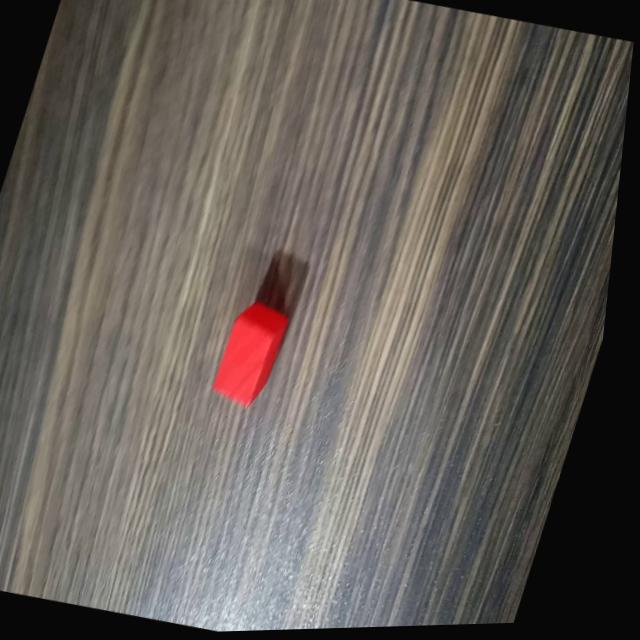cube: (211, 293, 302, 413)
